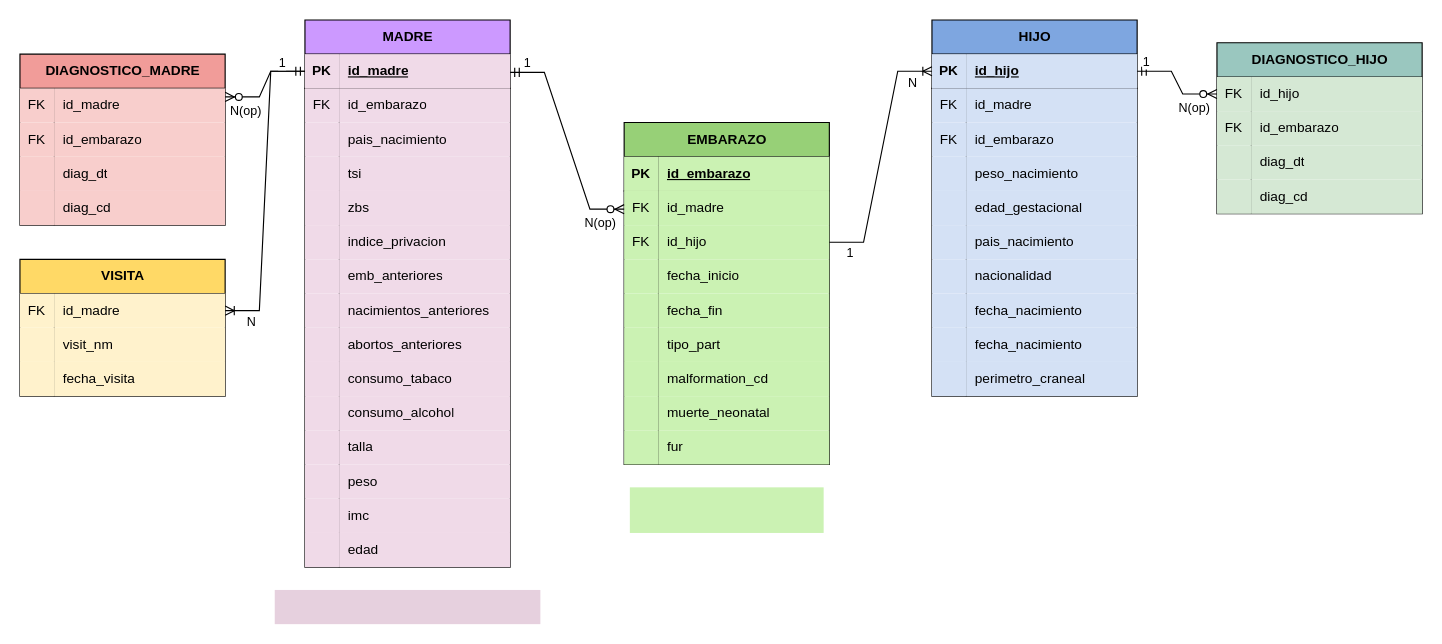
This 1442x644 diagram has some shape labels left out. The centre of each missing label's shape, as x and y in pixels:
"edad = fur - fecha_nacimiento" belongs at point 407,606.
"Episodio clínico concreto" belongs at point 726,509.
